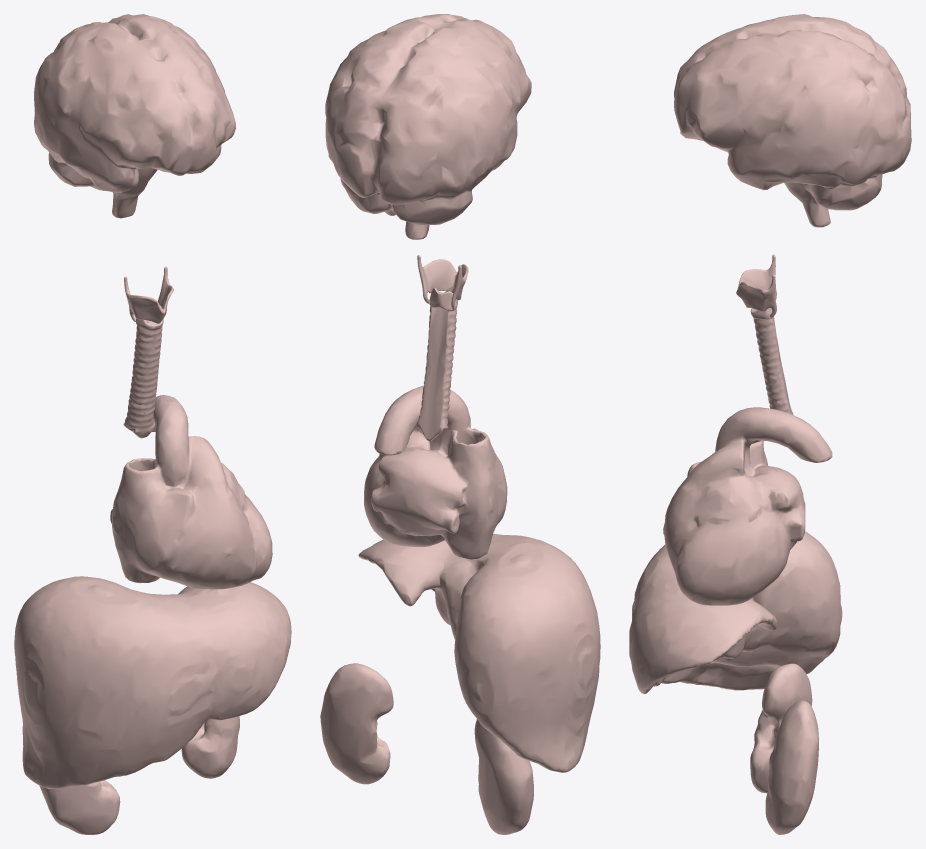
The model's file is orientierung.glb.
3 renders of one model, left to right at view 1: azimuth 30°, elevation 25°; view 2: azimuth 150°, elevation 25°; view 3: azimuth 270°, elevation 25°, orthographic. The views are drawn at different scales.
Visible parts, largest first — view 1: leber, gehirn, herz, niere-r, luftroehre, niere-l, kehlkopf; view 2: gehirn, leber, herz, niere-l, niere-r, luftroehre, kehlkopf; view 3: gehirn, leber, herz, niere-l, niere-r, luftroehre, kehlkopf.
Boxes of the visible parts, box(x1,y1,x2,y2) form: leber: box(14, 576, 291, 788); gehirn: box(34, 14, 235, 218); herz: box(110, 395, 272, 589); niere-r: box(39, 780, 120, 834); luftroehre: box(123, 320, 162, 438); niere-l: box(181, 716, 239, 778); kehlkopf: box(124, 266, 173, 330); gehirn: box(325, 14, 531, 239); leber: box(358, 533, 600, 772); herz: box(364, 385, 507, 559); niere-l: box(320, 663, 393, 784); niere-r: box(474, 719, 533, 834); luftroehre: box(415, 306, 456, 441); kehlkopf: box(417, 255, 468, 311); gehirn: box(674, 14, 911, 227); leber: box(629, 531, 842, 694); herz: box(663, 407, 832, 605); niere-l: box(765, 700, 818, 834); niere-r: box(750, 663, 812, 793); luftroehre: box(753, 309, 793, 414); kehlkopf: box(736, 254, 776, 319).
Bounding box in the file's own units: 0.2111 × 0.6636 × 0.214.
